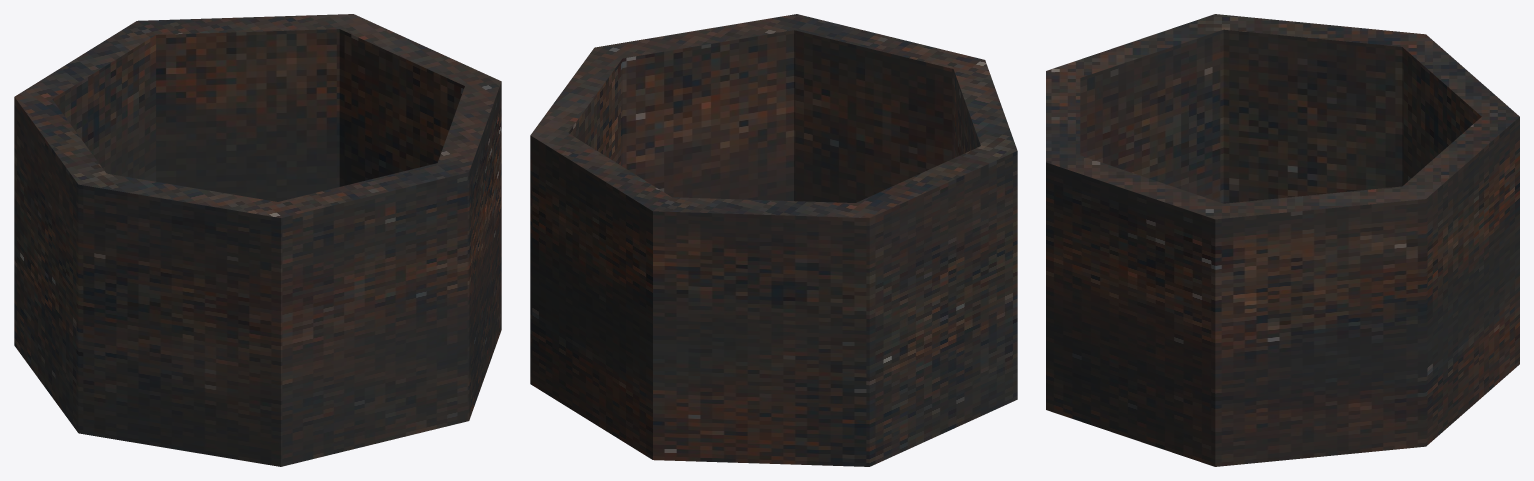
Rendered from 1chain 1.fbx.
The picture shows the model from 3 angles, left to right: view 1: azimuth 30°, elevation 25°; view 2: azimuth 150°, elevation 25°; view 3: azimuth 270°, elevation 25°; orthographic projection.
Parts seen in each view (by area): view 1: Cylinder.017; view 2: Cylinder.017; view 3: Cylinder.017.
Boxes of the visible parts, box(x1,y1,x2,y2) form: Cylinder.017: box(14, 14, 501, 466); Cylinder.017: box(530, 14, 1017, 466); Cylinder.017: box(1046, 14, 1519, 466).
Bounding box in the file's own units: 279 × 157 × 272.
